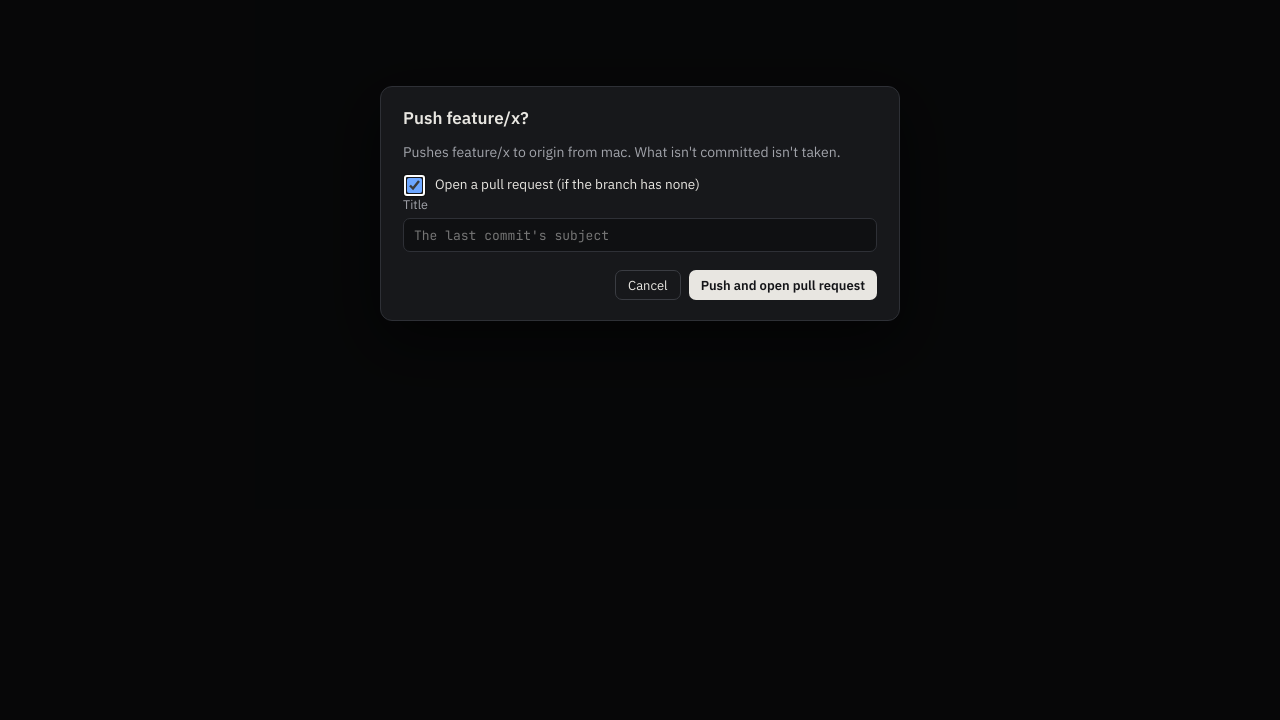
Test: the workspace dialogs › says what went wrong, and can be tried again
Click the button "Push and open pull request" at (783, 285), box x1=689 y1=270 x2=877 y2=300
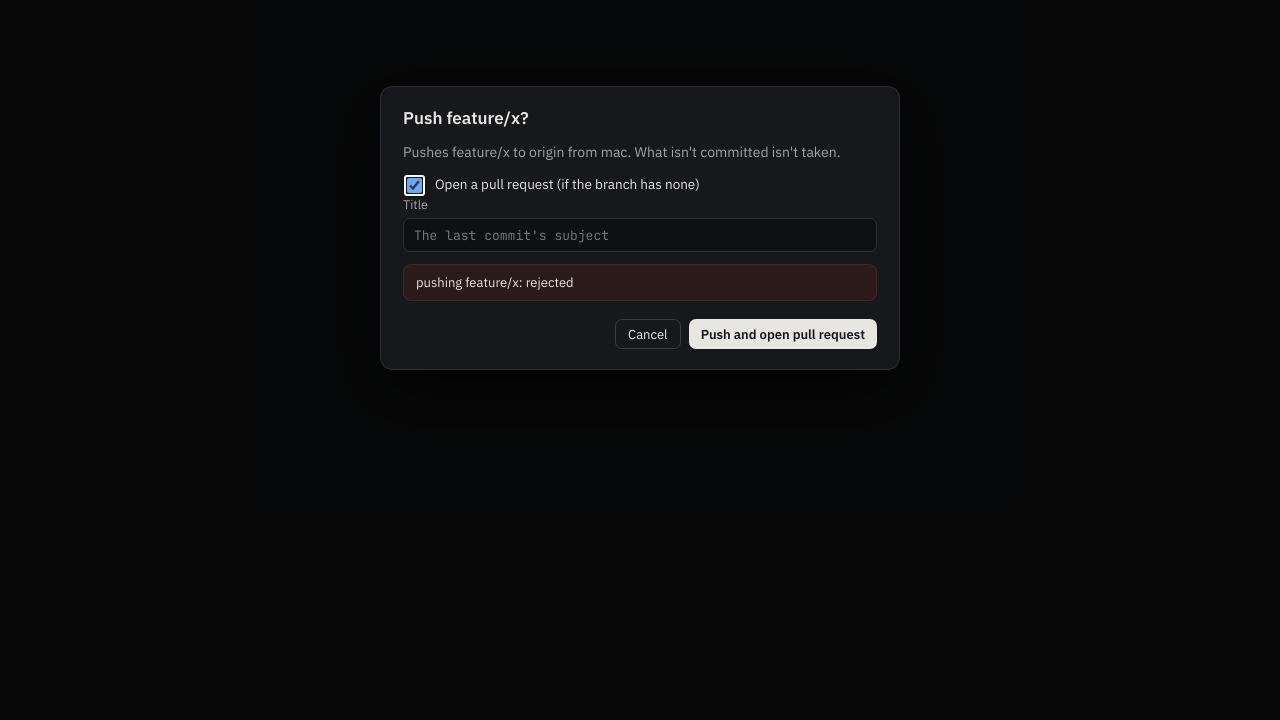
Expected: the button "Push and open pull request" is enabled, x1=689 y1=319 x2=877 y2=349
Expected: the text "rejected" is shown, x1=416 y1=274 x2=574 y2=291
